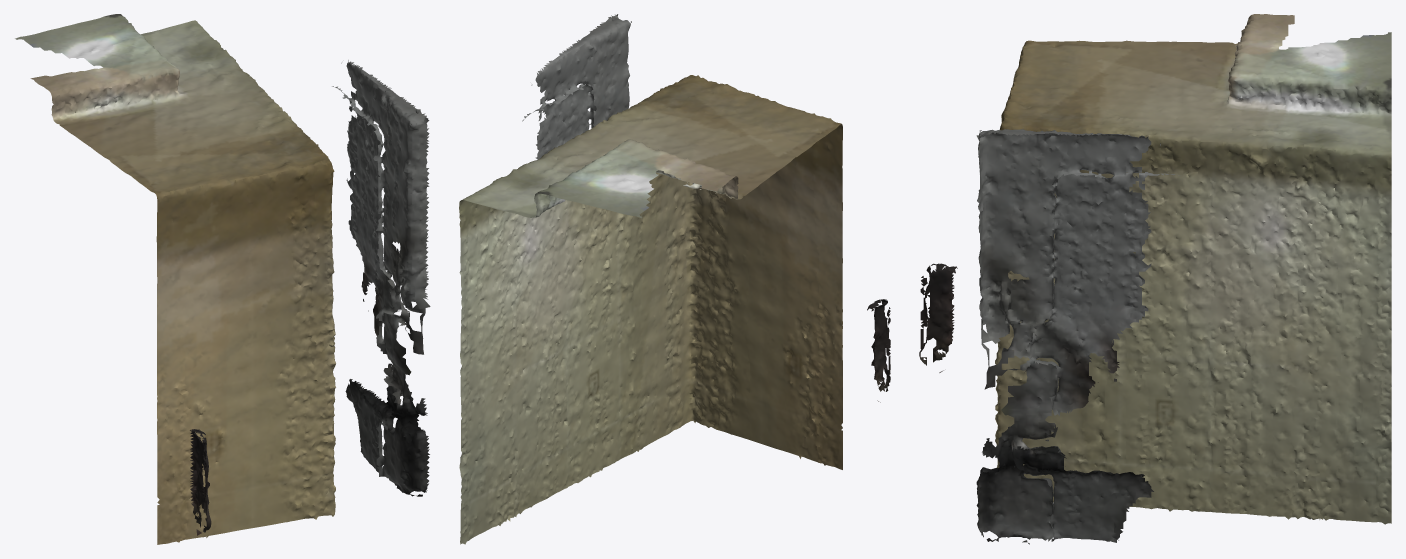
Rendered from fine.glb.
The picture shows the model from 3 angles, left to right: view 1: azimuth 30°, elevation 25°; view 2: azimuth 150°, elevation 25°; view 3: azimuth 270°, elevation 25°; orthographic projection. The views are drawn at different scales.
Size of the model in its own units: 0.8859 by 1.29 by 1.34.
